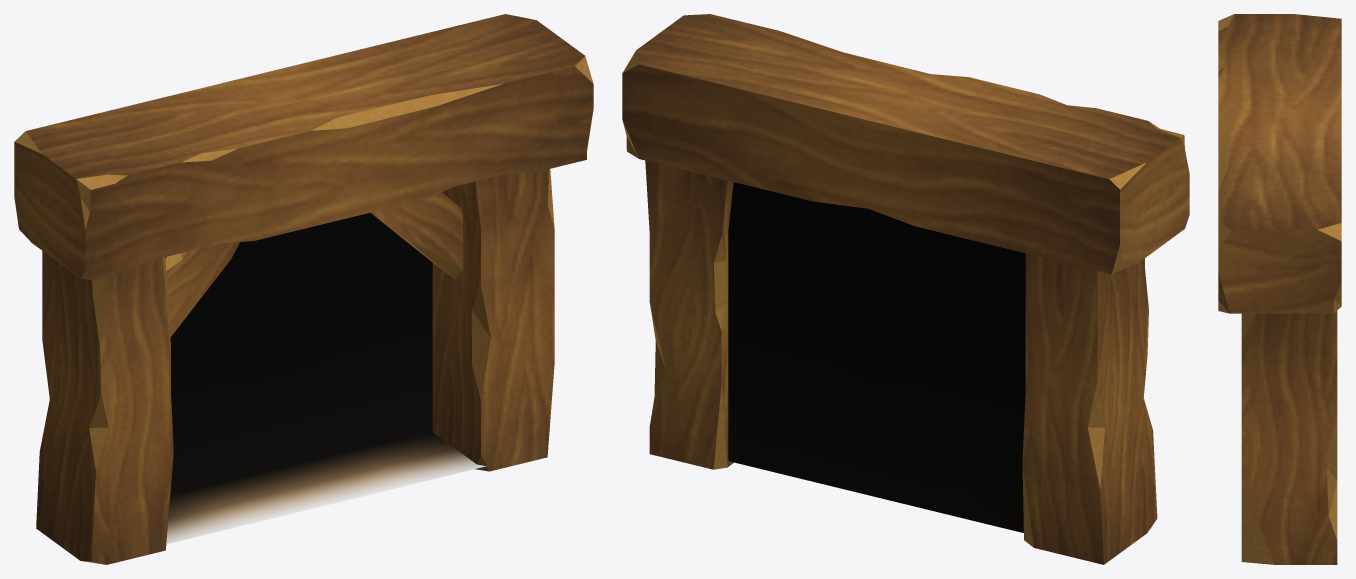
Rendered from DungeonEntrance.fbx.
3 renders of one model, left to right at view 1: azimuth 30°, elevation 25°; view 2: azimuth 150°, elevation 25°; view 3: azimuth 270°, elevation 25°, orthographic. The views are drawn at different scales.
Visible parts, largest first — view 1: polySurface2, polySurface1; view 2: polySurface2; view 3: polySurface2.
Boxes of the visible parts, x1,y1,x2,y2 form: polySurface2: [14, 14, 593, 564]; polySurface1: [166, 432, 486, 544]; polySurface2: [622, 14, 1189, 564]; polySurface2: [1218, 14, 1341, 564].
Bounding box in the file's own units: 2.65 × 1.98 × 0.6412.
